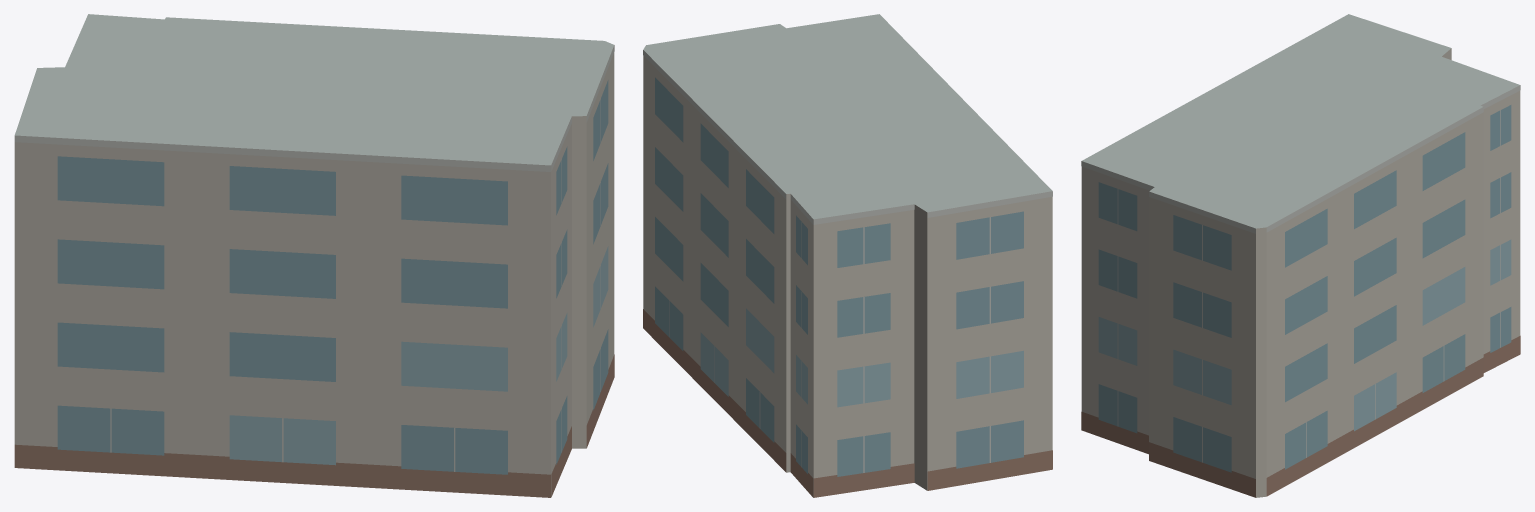
The model's file is survey-upis-32816147.glb.
3 views of the same model, side by side, from view 1: azimuth 30°, elevation 25°; view 2: azimuth 150°, elevation 25°; view 3: azimuth 270°, elevation 25° (orthographic). The views are drawn at different scales.
Parts seen in each view (by area): view 1: survey-upis-32816147.tmp; view 2: survey-upis-32816147.tmp; view 3: survey-upis-32816147.tmp.
Part boxes in pixels (x1=…): survey-upis-32816147.tmp: x1=14, y1=14, x2=614, y2=497; survey-upis-32816147.tmp: x1=643, y1=14, x2=1052, y2=497; survey-upis-32816147.tmp: x1=1081, y1=14, x2=1520, y2=497.
Size of the model in its own units: 20.85 by 12.2 by 18.03.
